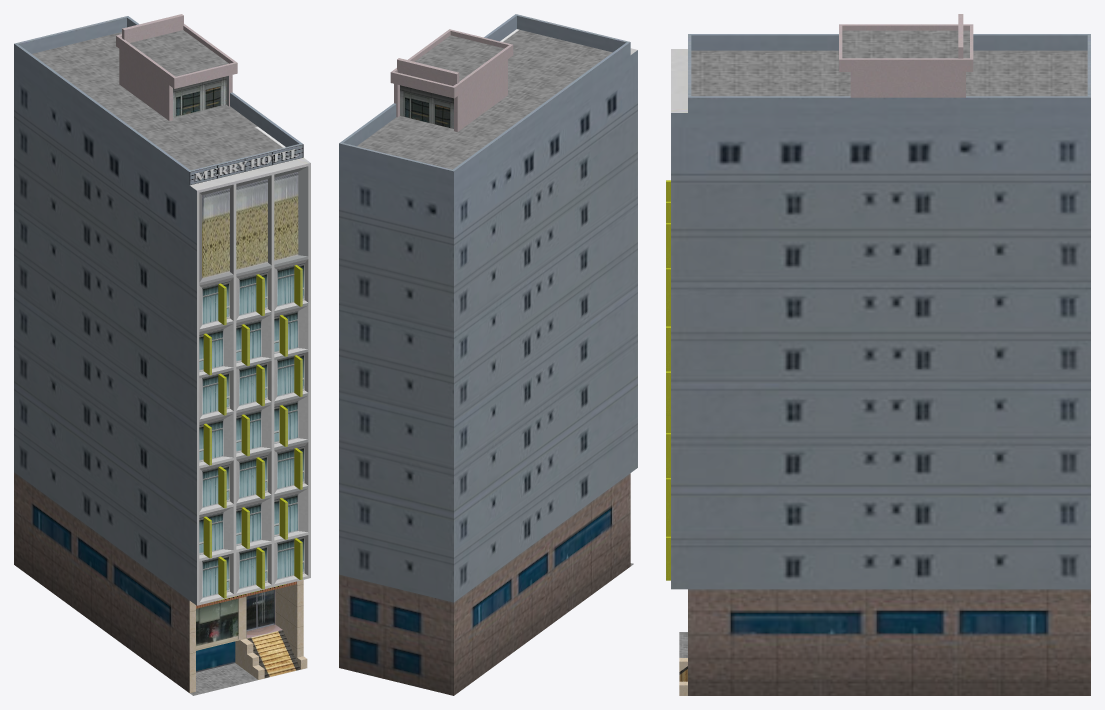
The picture shows the model from 3 angles, left to right: view 1: azimuth 30°, elevation 25°; view 2: azimuth 150°, elevation 25°; view 3: azimuth 270°, elevation 25°; orthographic projection. The views are drawn at different scales.
Visible parts, largest first — view 1: 5cbfdc1e9523cc21845b8df7.001; view 2: 5cbfdc1e9523cc21845b8df7.001; view 3: 5cbfdc1e9523cc21845b8df7.001.
Boxes of the visible parts, x1=… form: 5cbfdc1e9523cc21845b8df7.001: x1=14, y1=14, x2=310, y2=695; 5cbfdc1e9523cc21845b8df7.001: x1=339, y1=14, x2=637, y2=695; 5cbfdc1e9523cc21845b8df7.001: x1=666, y1=14, x2=1090, y2=695.
Size of the model in its own units: 9 by 42.54 by 25.3.
1 material, 1 textured.
